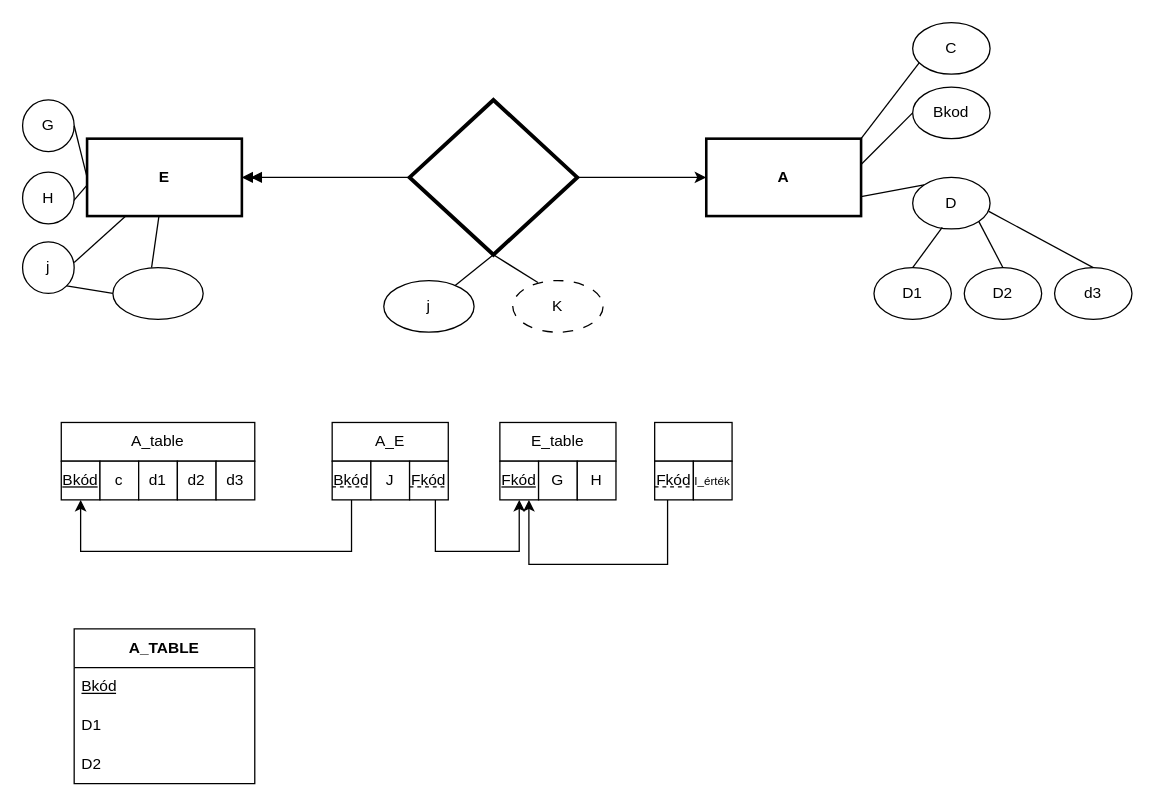
The diagram is 1155 pixels wide and 806 high, and some of its shapes have lost their labels. Each missing label, with the box of its shape:
E-A: (407, 97, 579, 256)
F-kód: (112, 266, 203, 319)
I_table: (653, 421, 732, 461)
